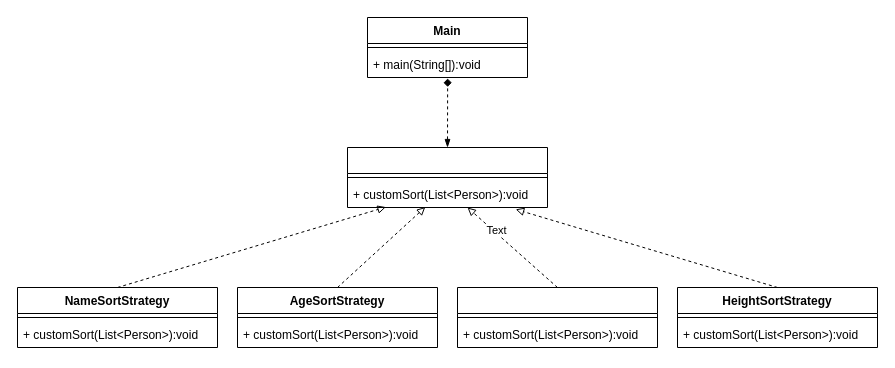
The diagram is 895 pixels wide and 368 high, and some of its shapes have lost their labels. Each missing label, with the box of its shape:
SortStrategy: (346, 146, 548, 208)
WeightStrategy: (456, 286, 658, 348)
